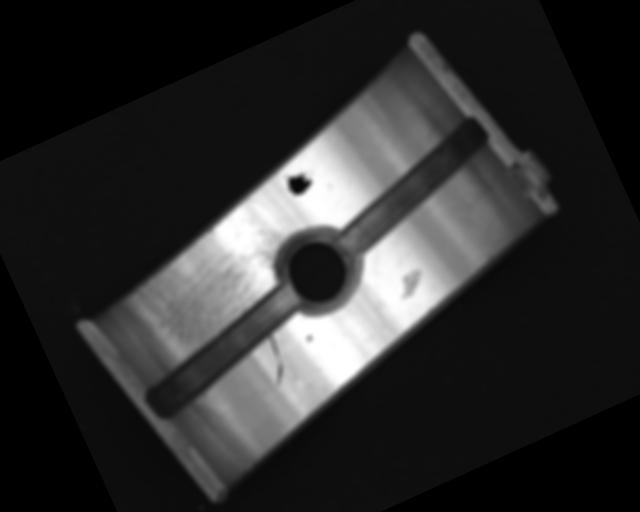blot: (281, 163, 320, 199)
bruise: (393, 266, 428, 300), (305, 333, 314, 344)
gap: (124, 279, 322, 425), (315, 115, 510, 261)
hole: (265, 216, 372, 325)
nick: (257, 333, 294, 387)
scratch: (103, 191, 320, 374)
